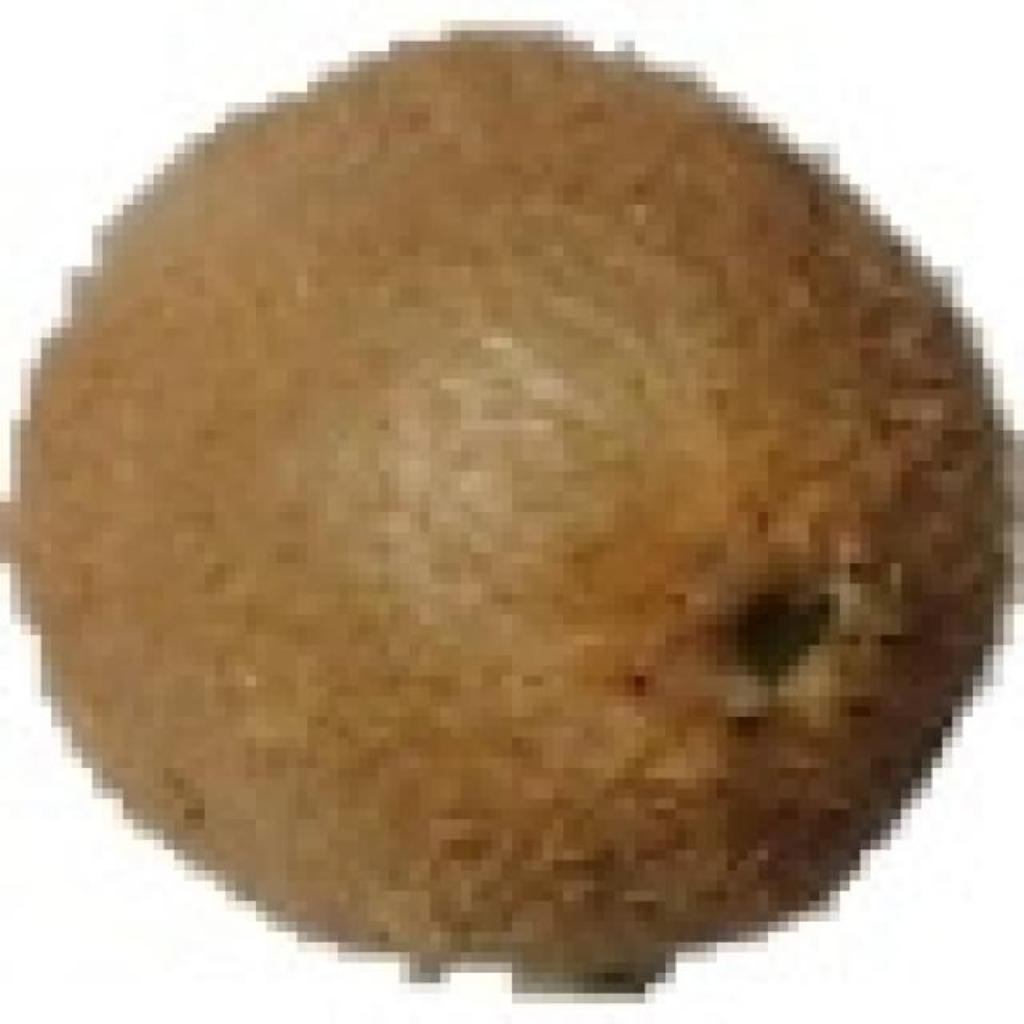kiwi: (10, 20, 983, 963)
